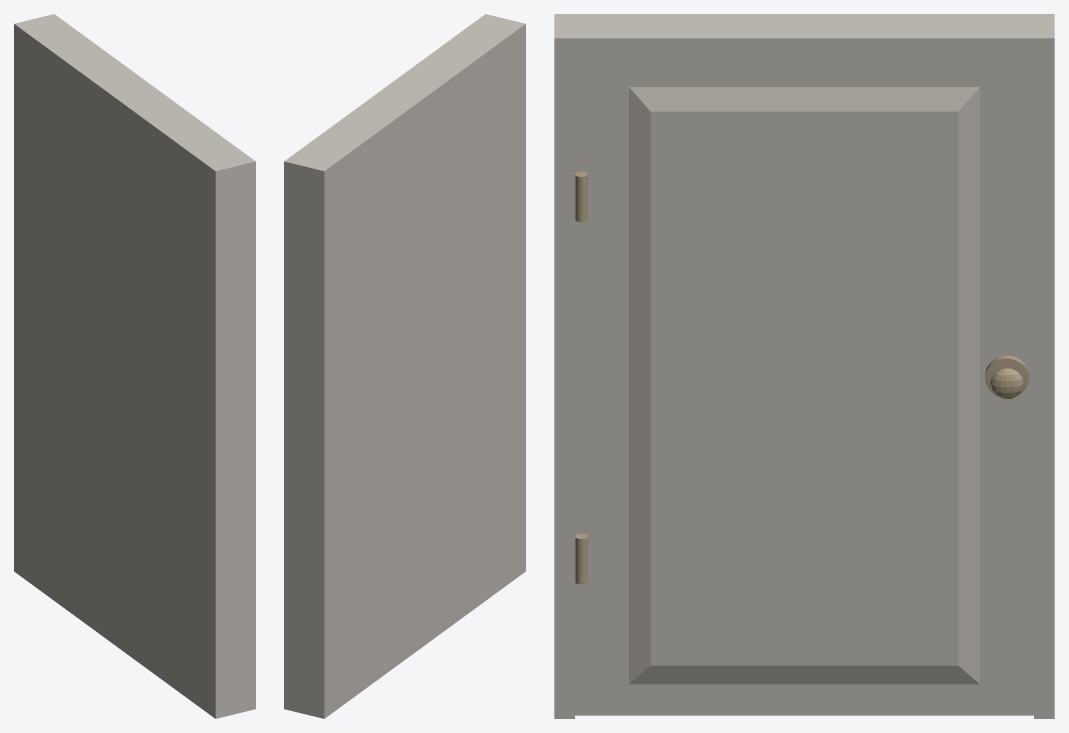
File: Door 1.fbx
3 views of the same model, side by side, from view 1: azimuth 30°, elevation 25°; view 2: azimuth 150°, elevation 25°; view 3: azimuth 270°, elevation 25° (orthographic). The views are drawn at different scales.
Visible parts, largest first — view 1: Door; view 2: Door; view 3: Door, Handle.
Boxes of the visible parts, left/top/right/bottom form: Door: left=14, top=14, right=255, bottom=718; Door: left=284, top=14, right=525, bottom=718; Door: left=554, top=14, right=1054, bottom=718; Handle: left=985, top=355, right=1028, bottom=398.
Bounding box in the file's own units: 62.32 × 600 × 400.
